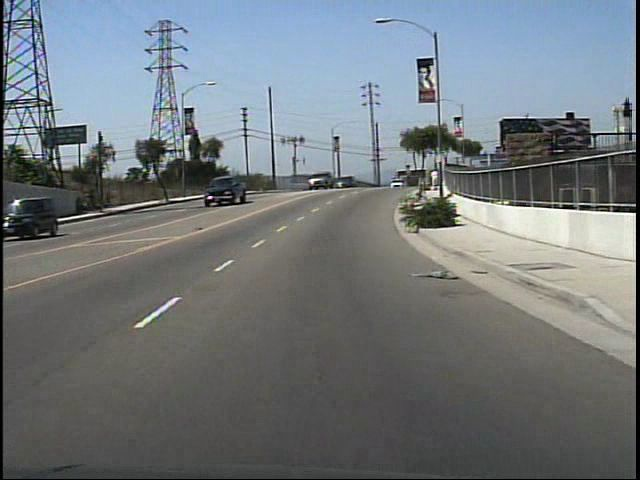person: (428, 167, 441, 194)
